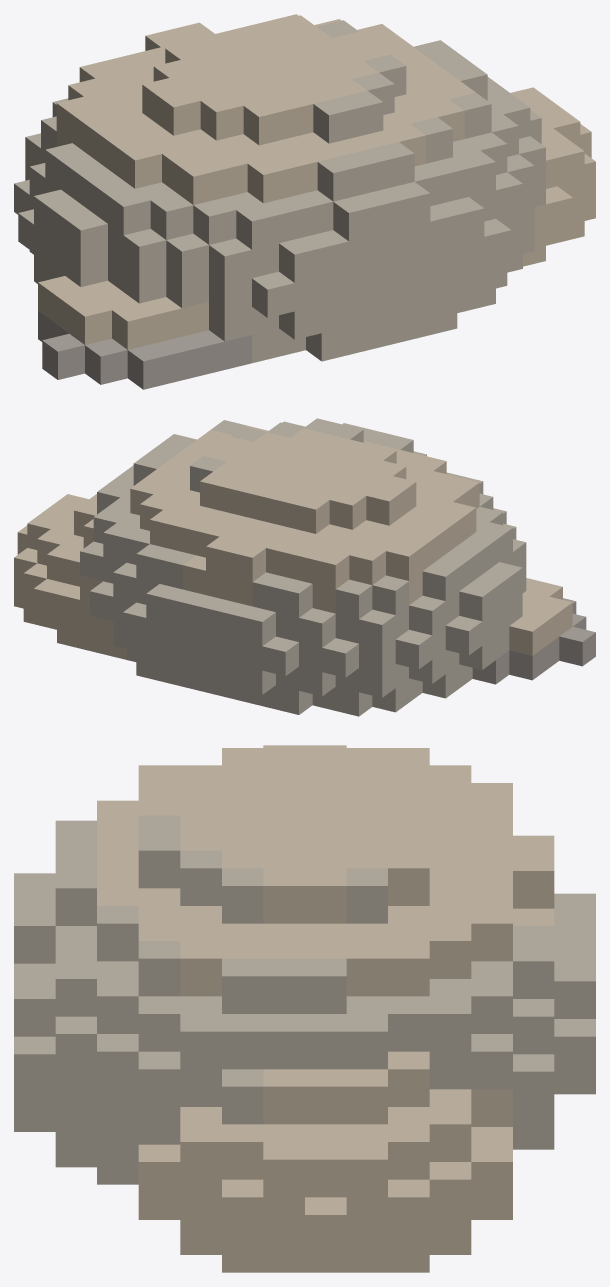
File: small_savanna_boulder.glb
The picture shows the model from 3 angles, top to bottom: view 1: azimuth 30°, elevation 25°; view 2: azimuth 150°, elevation 25°; view 3: azimuth 270°, elevation 25°; orthographic projection. The views are drawn at different scales.
Size of the model in its own units: 0.9167 by 0.2917 by 0.5833.
